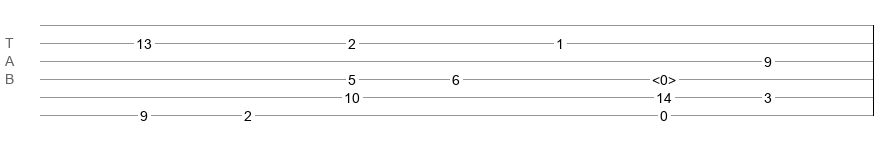0: (660, 108, 668, 118)
1: (556, 36, 564, 46)
10: (344, 90, 360, 100)
13: (136, 36, 152, 46)
14: (656, 90, 672, 100)
2: (244, 108, 252, 118), (348, 36, 356, 46)
3: (764, 90, 772, 100)
5: (348, 72, 356, 82)
6: (452, 72, 460, 82)
9: (140, 108, 148, 118), (764, 54, 772, 64)
harmonic: (652, 72, 676, 82)
